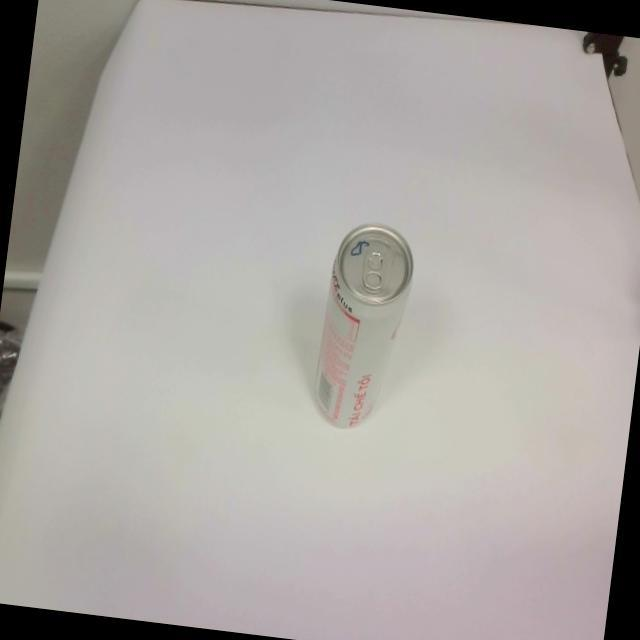debris: (307, 216, 418, 434)
